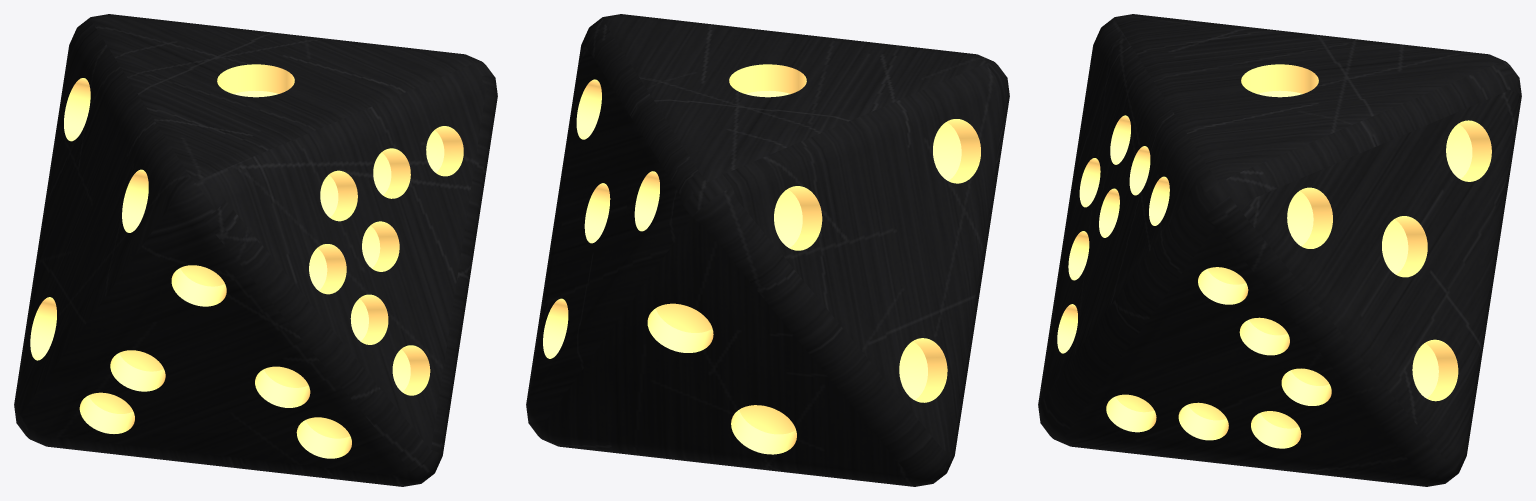
File: MP_D8_BlackGold.glb
3 renders of one model, left to right at view 1: azimuth 30°, elevation 25°; view 2: azimuth 150°, elevation 25°; view 3: azimuth 270°, elevation 25°, orthographic.
Visible parts, largest first — view 1: D8_BlackGold; view 2: D8_BlackGold; view 3: D8_BlackGold.
Boxes of the visible parts, x1=… form: D8_BlackGold: x1=14, y1=14, x2=497, y2=486; D8_BlackGold: x1=526, y1=14, x2=1009, y2=486; D8_BlackGold: x1=1038, y1=14, x2=1521, y2=486.
Size of the model in its own units: 1 by 0.7741 by 1.
2 materials, 1 textured.
